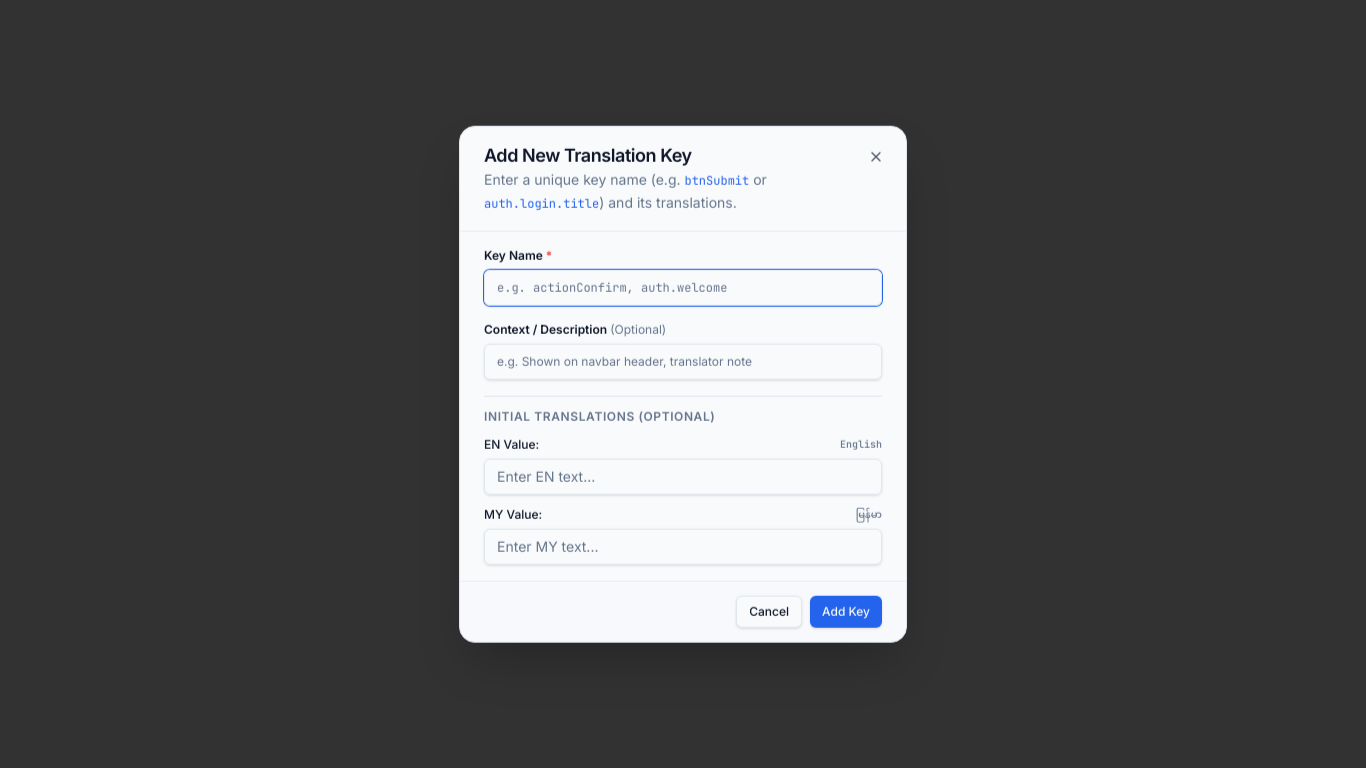
Test case: AddKeyDialog › shows validation error if key name already exists
Step 1. Type "existing.key" into the field with placeholder "e.g. actionConfirm, auth.welcome" → (683, 287), box [484,269,882,305]
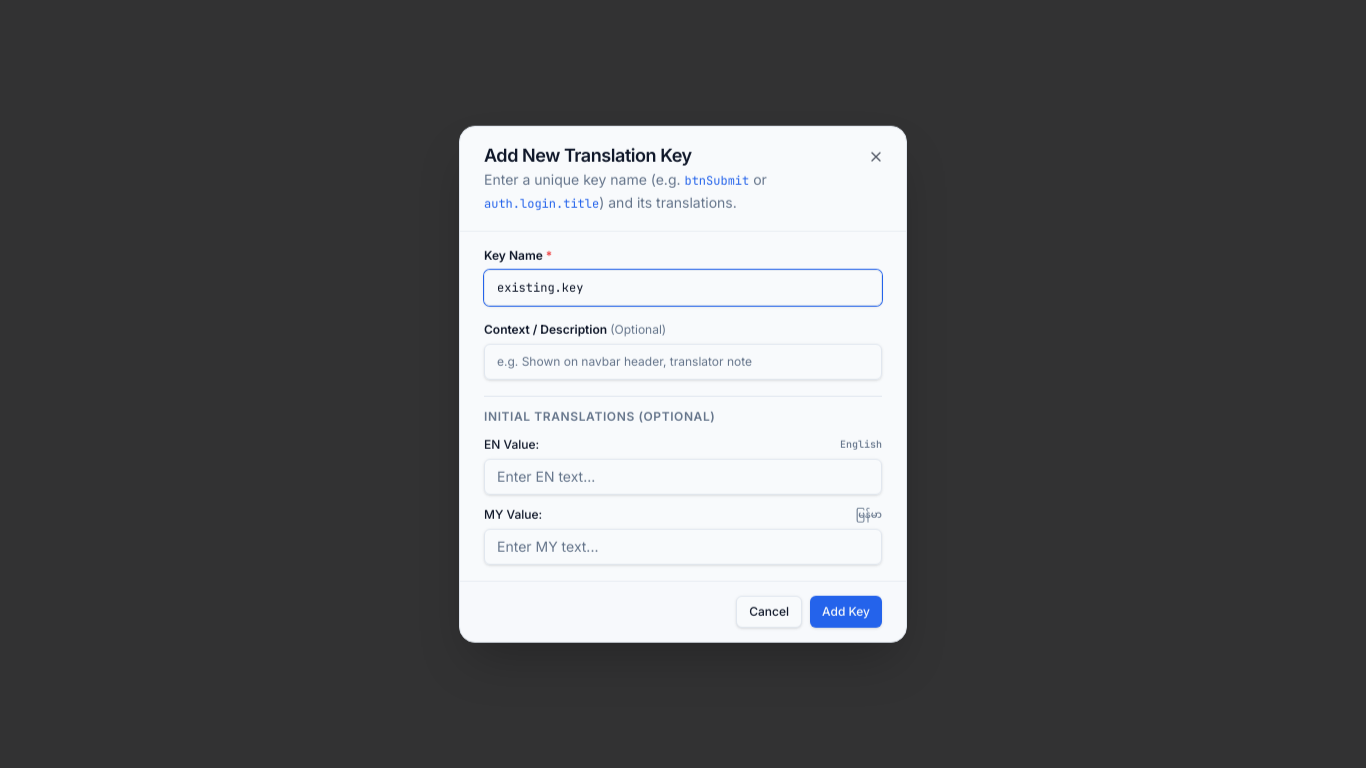
Step 2. Click the button "Add Key" → (846, 611), box [810,595,882,627]
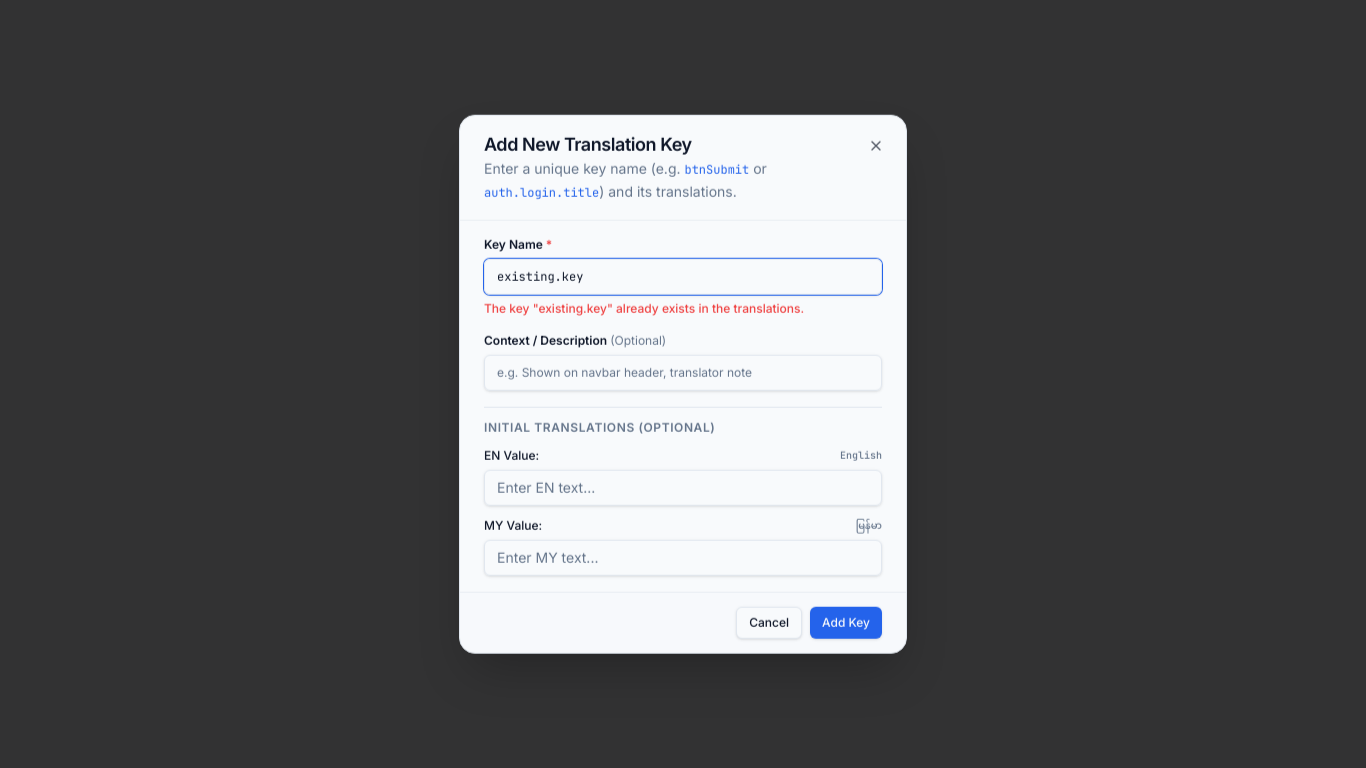
Expected: the text "The key \"existing.key\" already exists in the translations." is shown, [484,300,804,315]
